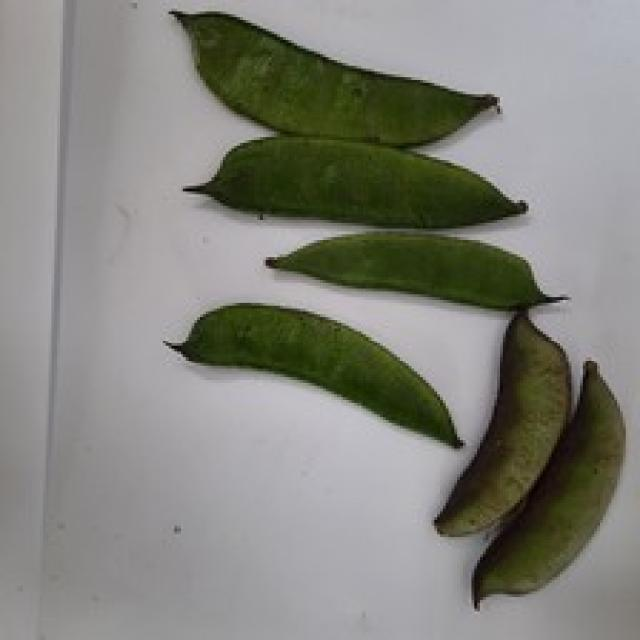Bean: (166, 5, 500, 146), (160, 300, 463, 449), (468, 357, 626, 609), (180, 132, 529, 228), (432, 309, 572, 537), (263, 228, 568, 312)
